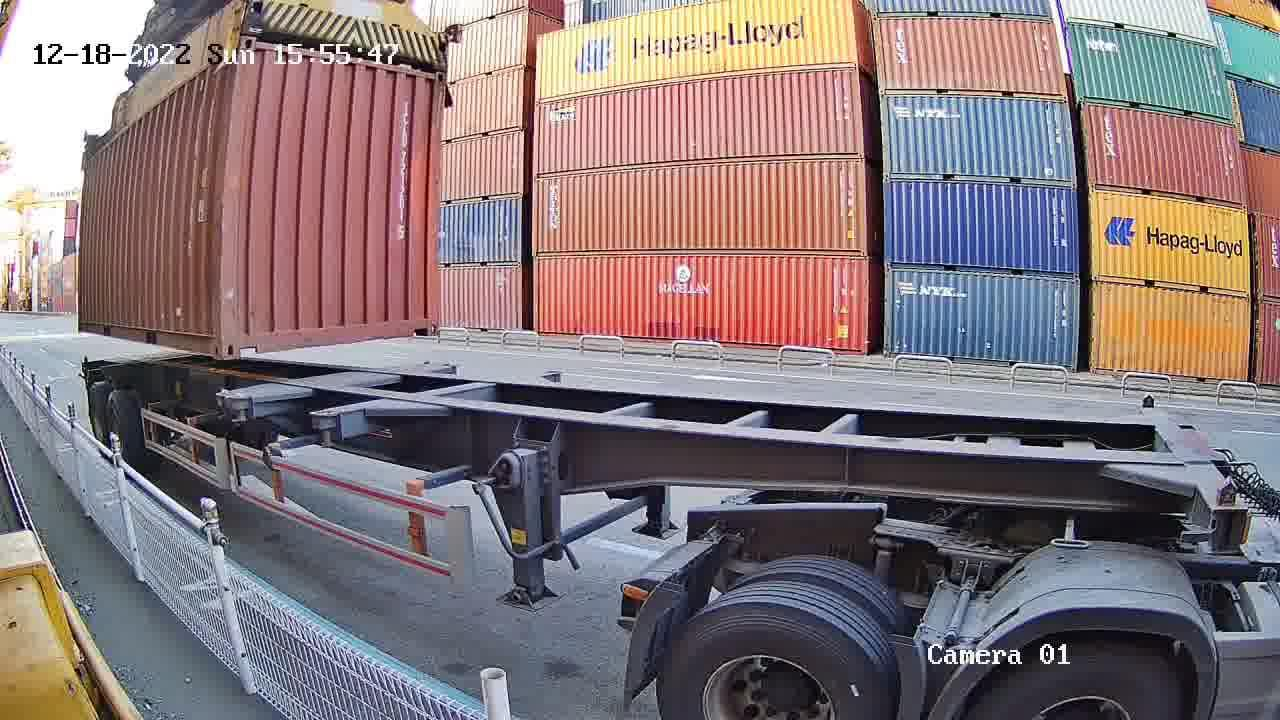Chassis: (237, 364, 463, 405), (216, 359, 443, 395)
Cone: (232, 392, 250, 426), (215, 388, 230, 423)
Hole_L: (222, 317, 268, 359)
Hole_R: (406, 303, 440, 337), (200, 318, 223, 360)
Tire: (656, 603, 891, 717), (966, 650, 1187, 719)
